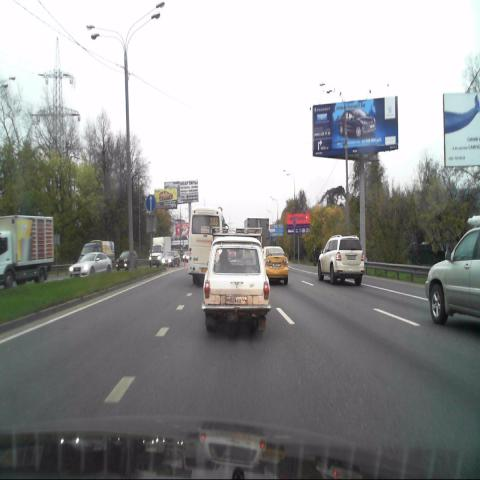4_1_1: (146, 195, 156, 212)
